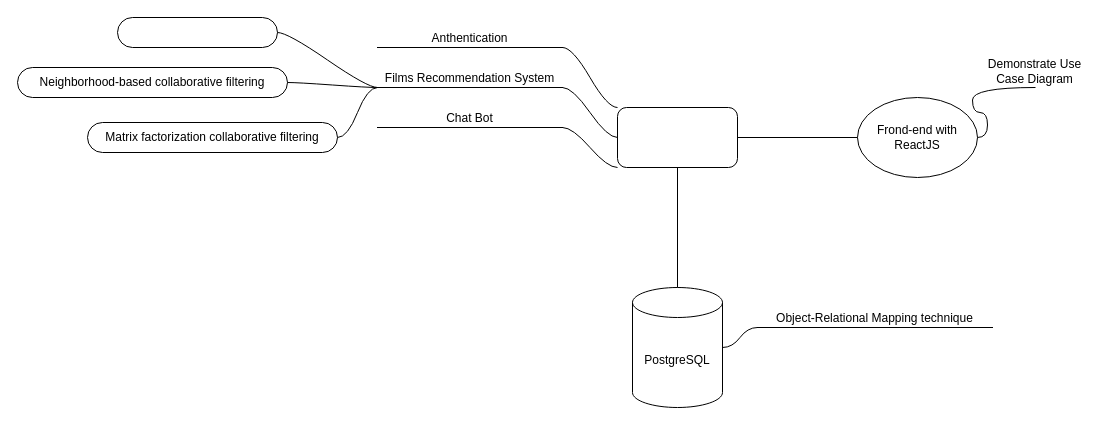
Some shapes in this 1105 by 425 pixel diagram are drawn without their labels. Each missing label, with the centre of its shape:
"Content-based TF-IDF" goes at (x=197, y=32).
"Django Framework" goes at (x=677, y=137).
